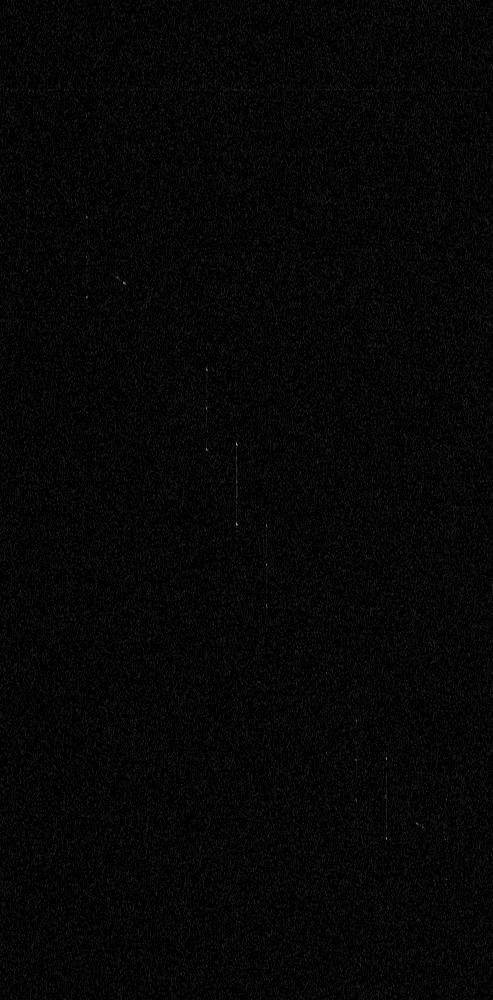signal: (0, 0, 492, 999)
